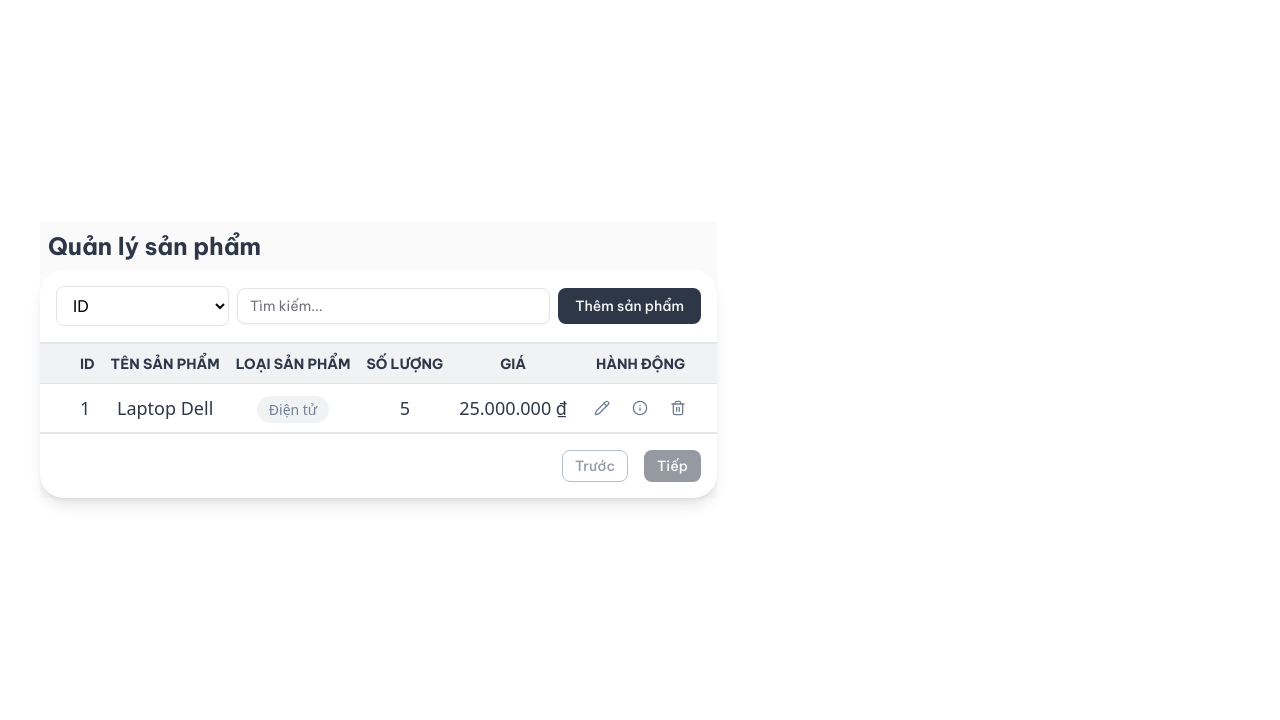
Product Page Integration › b) - Product form create & edit › TC_PRODUCT_003: Tạo sản phẩm mới thành công và refresh danh sách
expect the text "Laptop Dell" is shown: met, box [103, 384, 228, 432]
Click the button "Thêm sản phẩm" at (630, 306), box [558, 288, 701, 324]
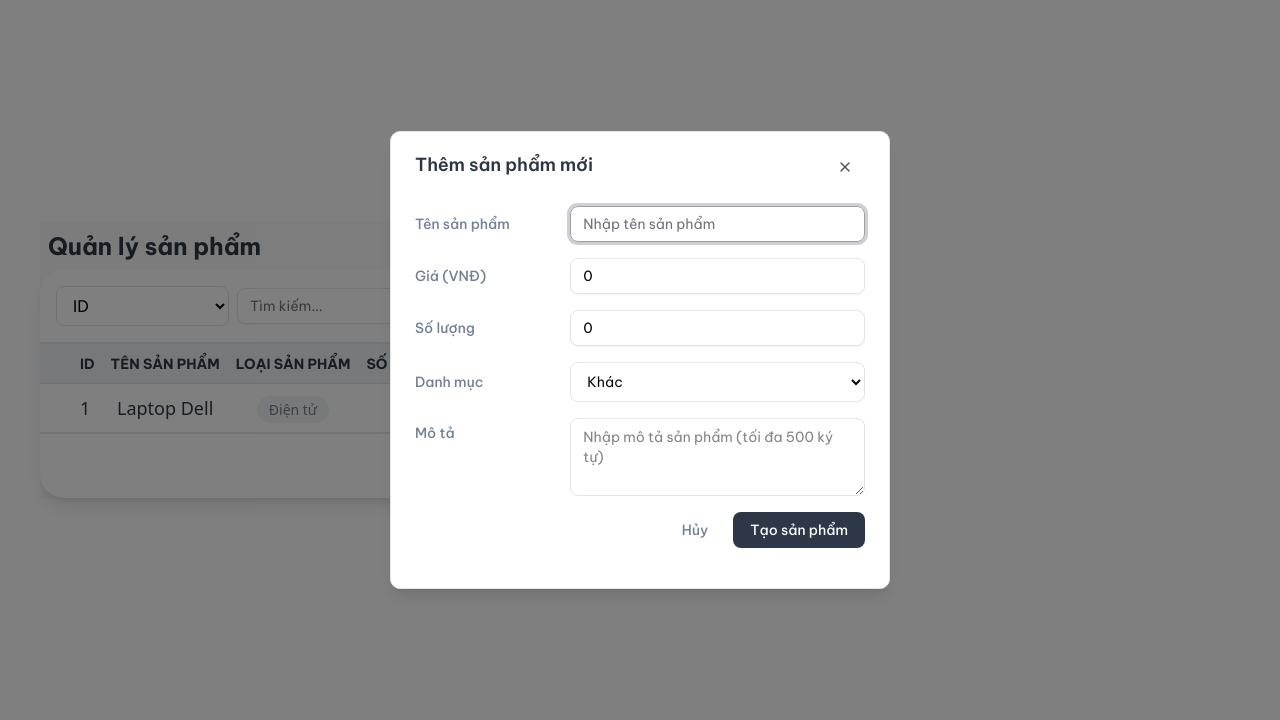
Type "Tai nghe Sony" into the field labelled "Tên sản phẩm" at (718, 224), box [570, 206, 865, 242]
Replace the text in the number field labelled "Giá (VNĐ)" with "1990000" at (718, 276), box [570, 258, 865, 294]
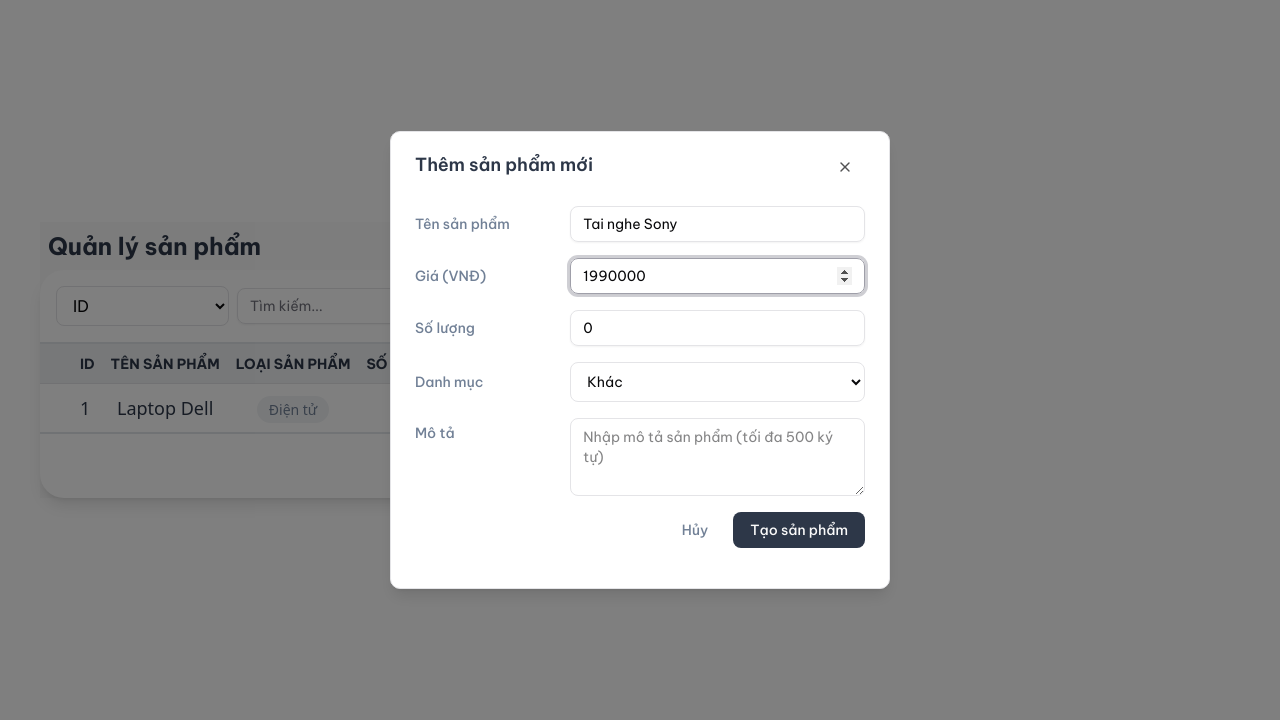
Replace the text in the number field labelled "Số lượng" with "12" at (718, 328), box [570, 310, 865, 346]
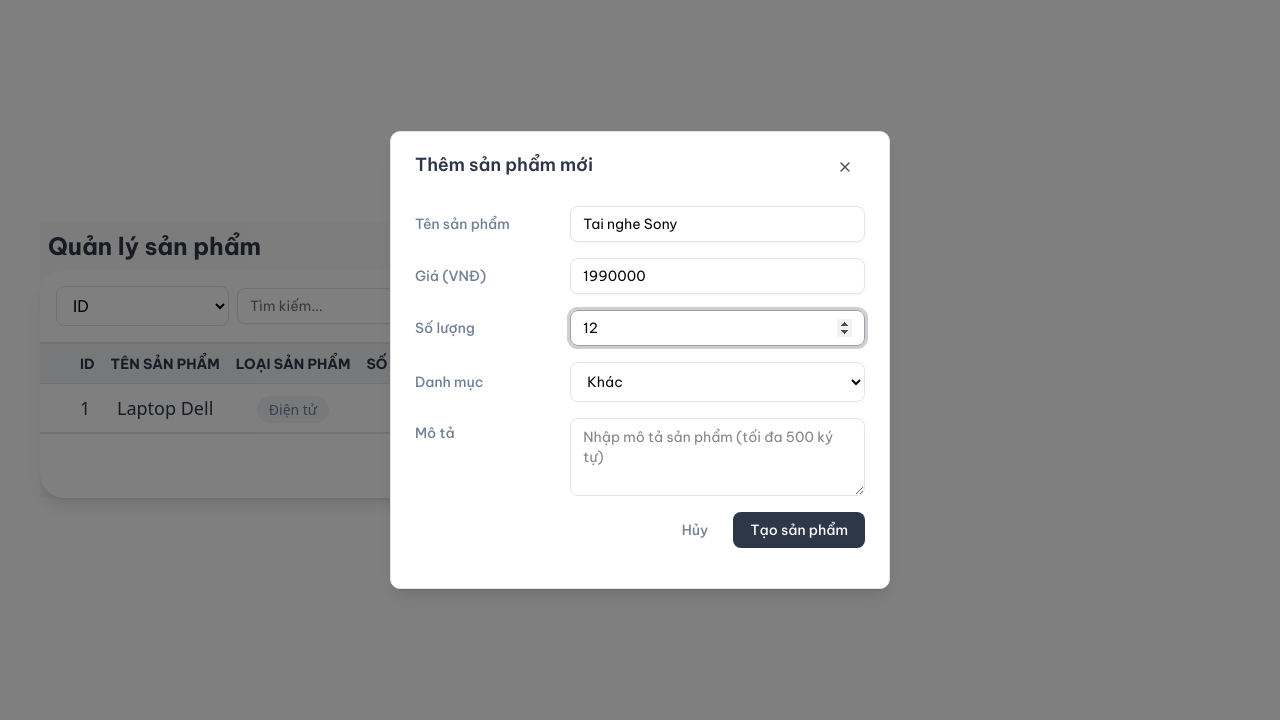
Select "Điện tử" in the dropdown labelled "Danh mục" at (718, 382), box [570, 362, 865, 402]
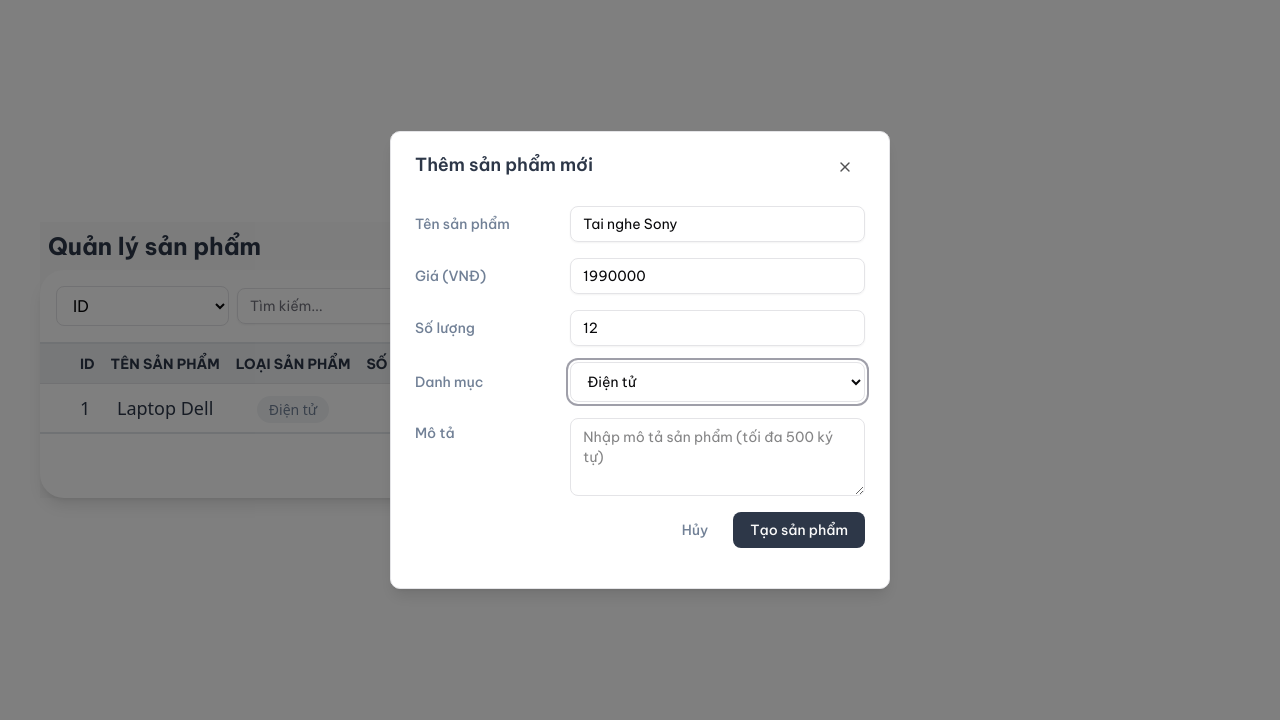
Type "Tai nghe chống ồn" into the text box labelled "Mô tả" at (718, 457), box [570, 418, 865, 496]
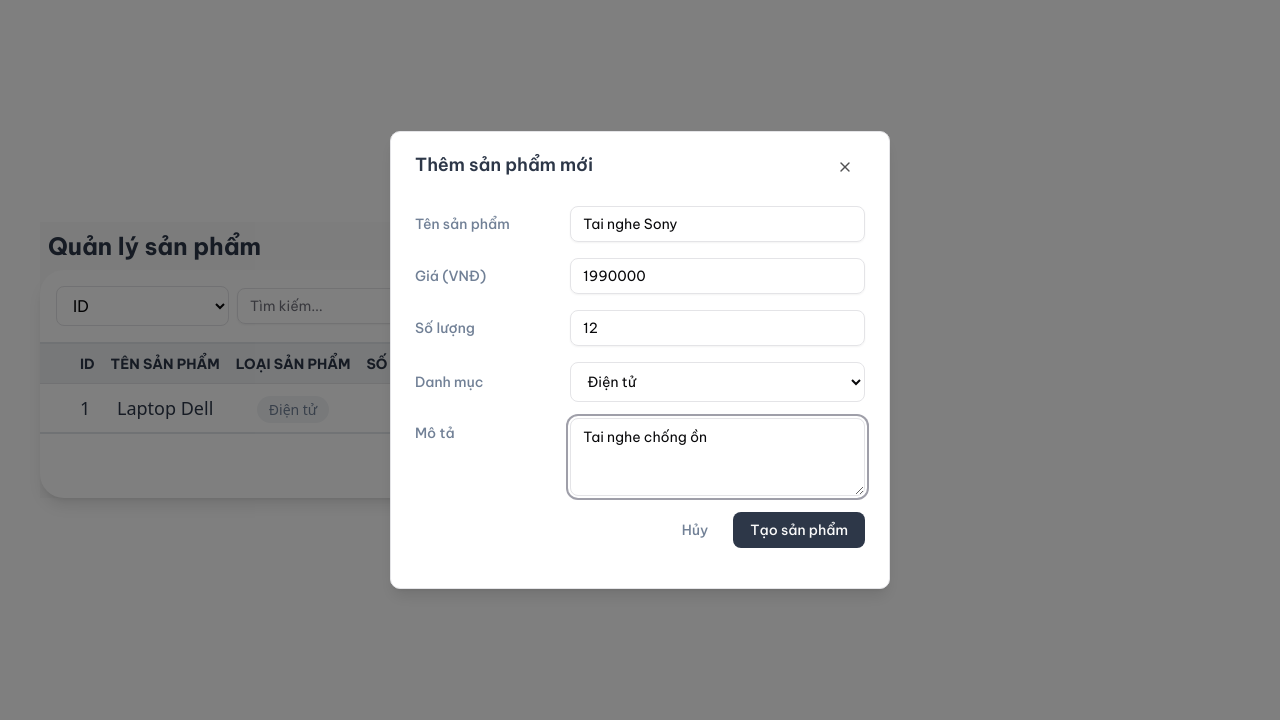
Click the button "Tạo sản phẩm" at (799, 530), box [733, 512, 865, 548]
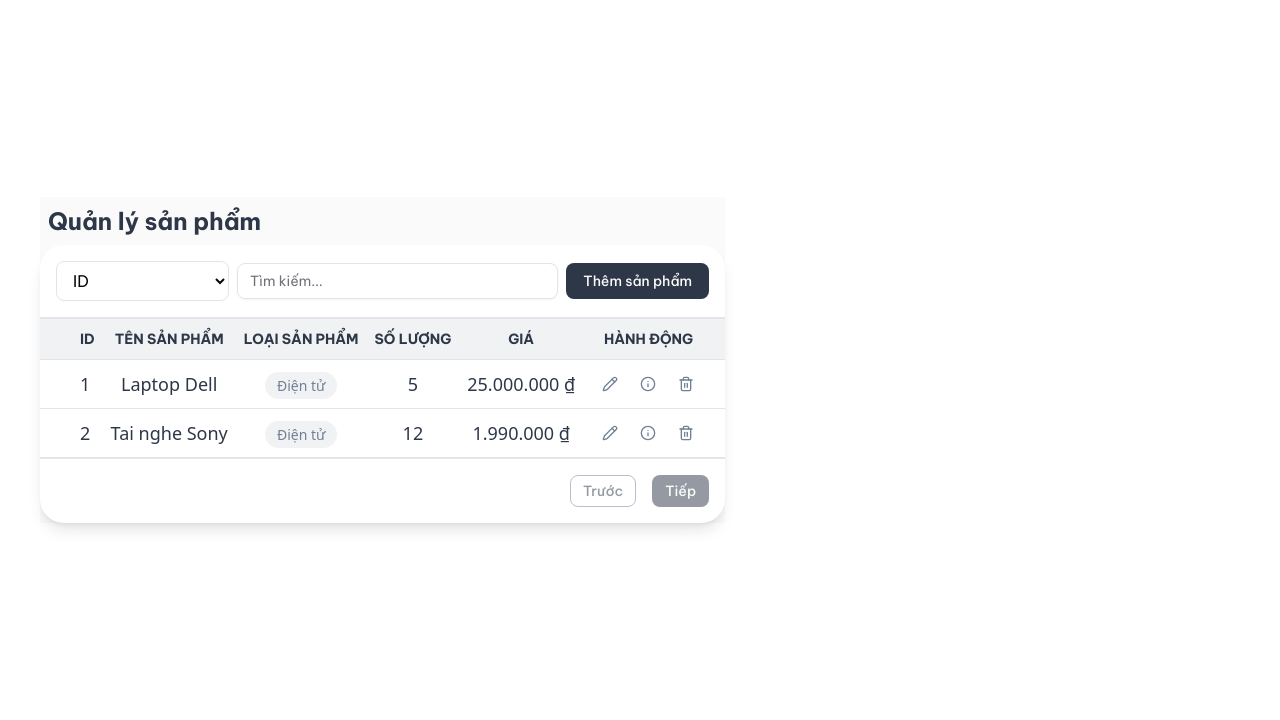
expect the text "Tai nghe Sony" is shown: met, box [103, 408, 236, 457]
